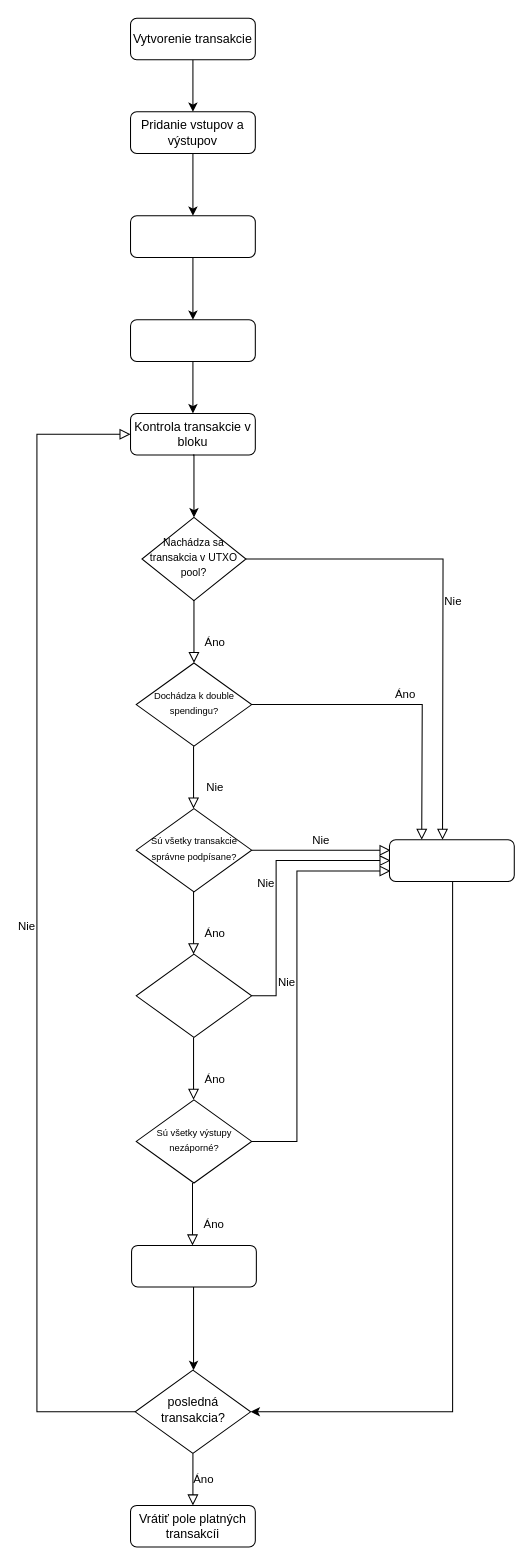
Some shapes in this 532 by 1565 pixel diagram are drawn without their labels. Each missing label, with the box of its shape:
Je hodnota vstupov <= hodnota výstupov?: (135, 953, 252, 1037)
Nepridať do poľa platných transakcíi: (388, 839, 514, 881)
Podpísanie transakcie: (129, 215, 255, 257)
Pridanie transakcie do bloku: (129, 319, 255, 361)
Pridať transakciu do poľa platných transakcií: (131, 1244, 256, 1287)
